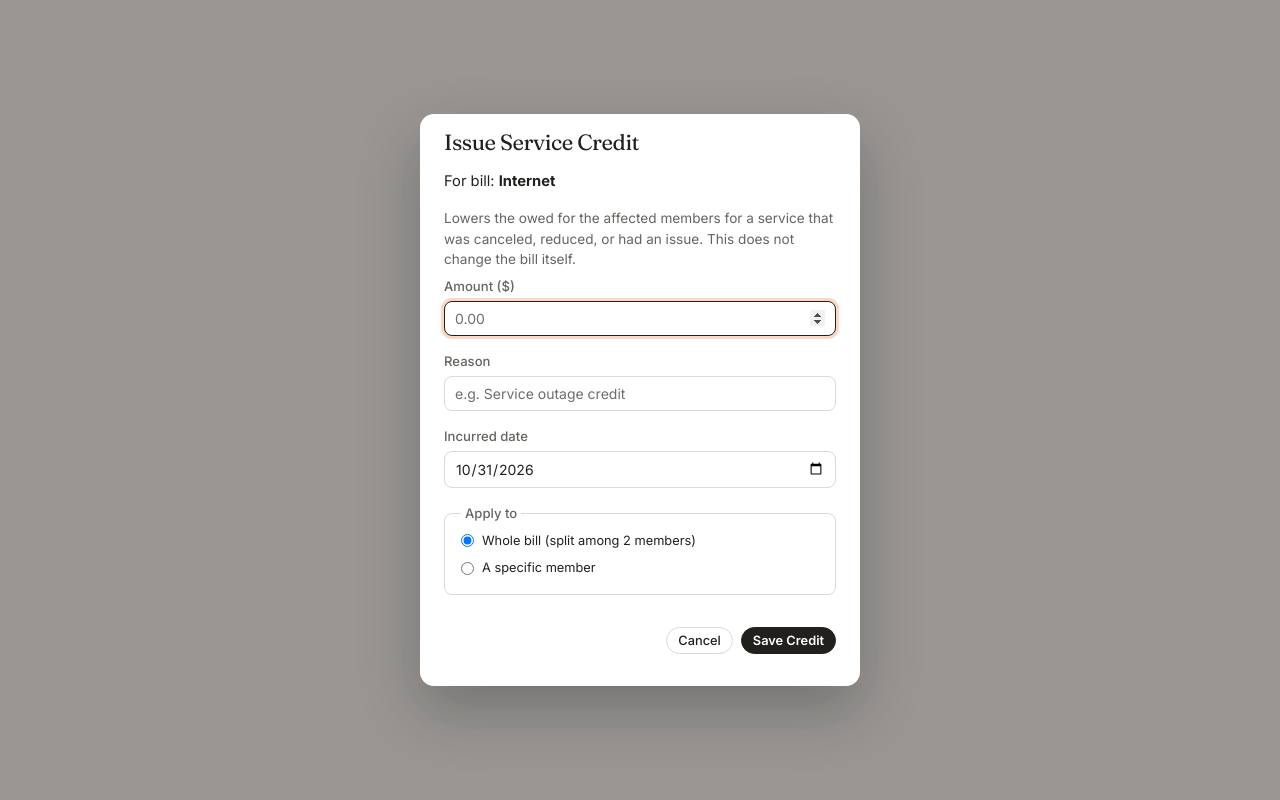
Test: ServiceCreditDialog › blocks submit and shows an error for a missing reason
Type "50" into the number field labelled "Amount ($)" at (640, 319), box [444,301,836,336]
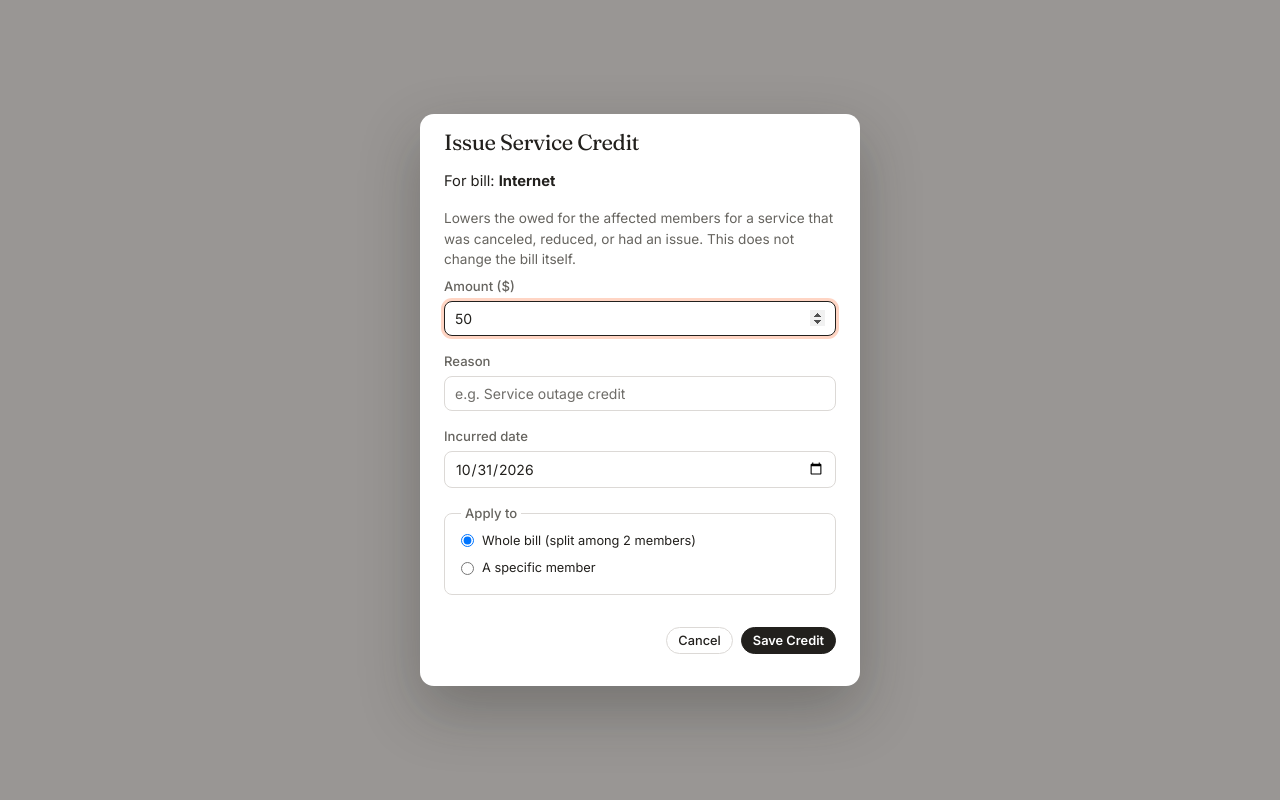
Click the button "Save Credit" at (788, 640), box [741,627,836,654]
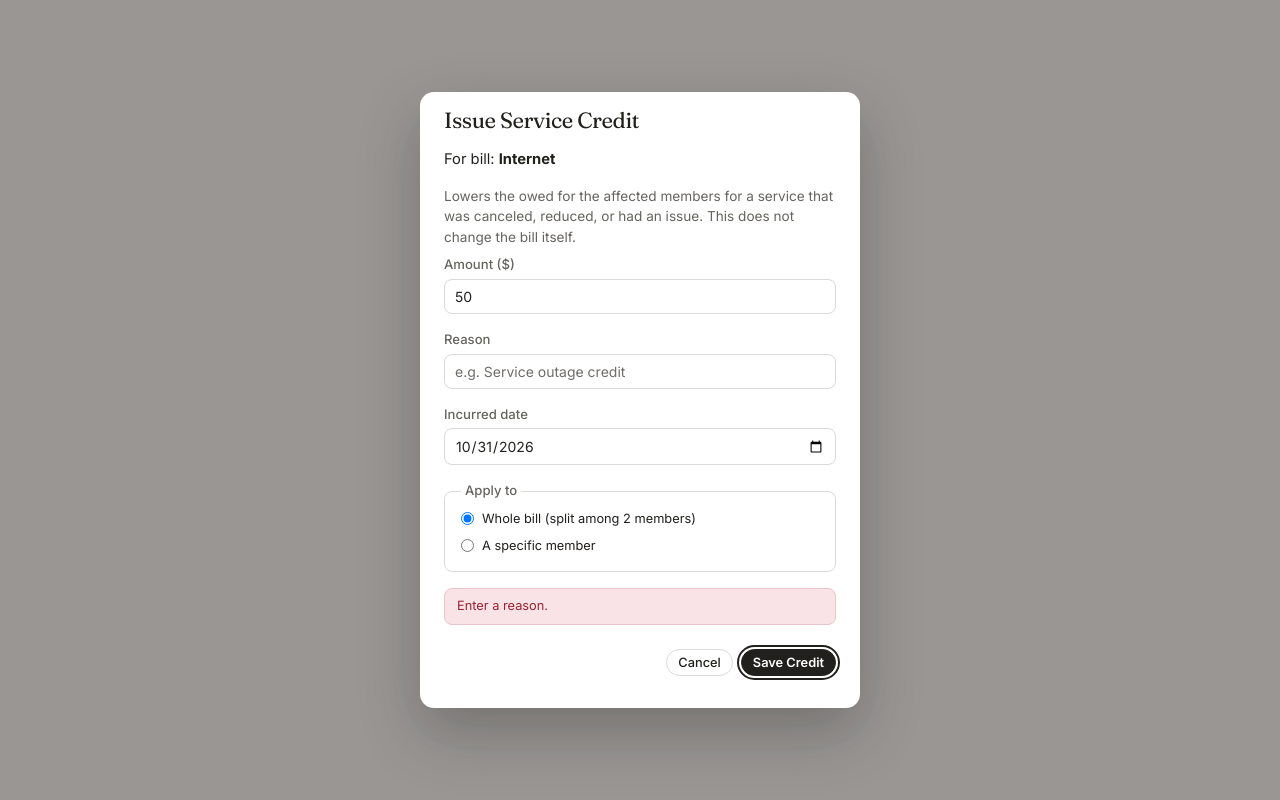
Check: the text "Enter a reason." is shown, box [444,588,836,625]
